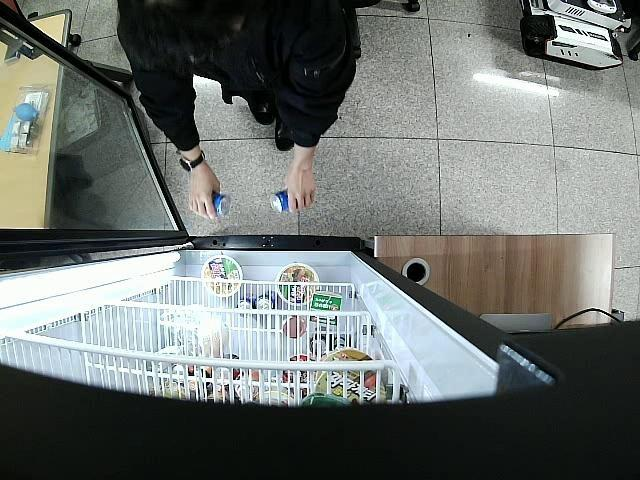15_letsbe: (269, 188, 306, 213), (210, 191, 229, 218)
